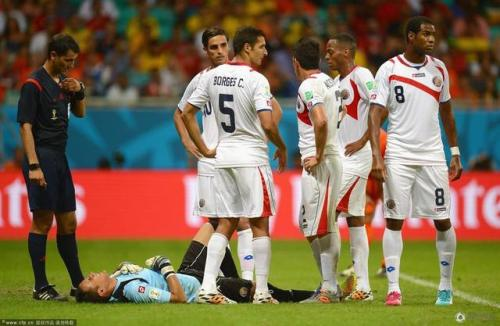10+: (1, 1, 500, 312)
down: (74, 251, 361, 304)
